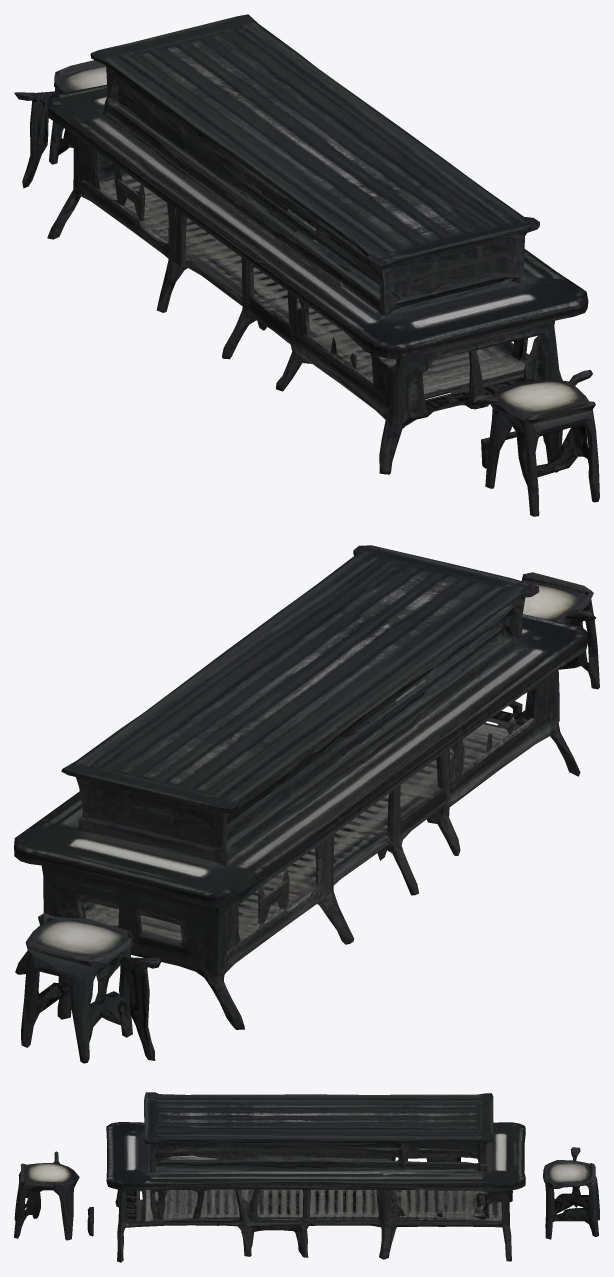
The model's file is trellis_result.glb.
3 renders of one model, top to bottom at view 1: azimuth 30°, elevation 25°; view 2: azimuth 150°, elevation 25°; view 3: azimuth 270°, elevation 25°, orthographic. The views are drawn at different scales.
Visible parts, largest first — view 1: world; view 2: world; view 3: world.
Boxes of the visible parts, x1,y1,x2,y2 form: world: (14,14,599,516); world: (14,545,599,1063); world: (14,1092,599,1262).
Size of the model in its own units: 0.2578 by 0.2163 by 1.
1 material, 1 textured.
